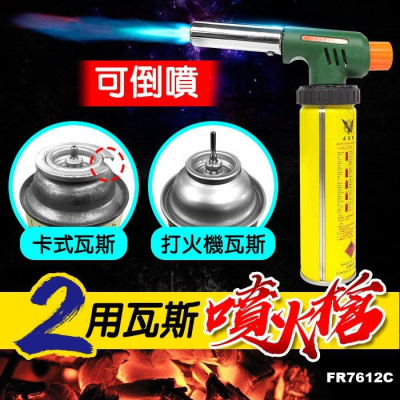gastorch: (181, 16, 395, 284)
